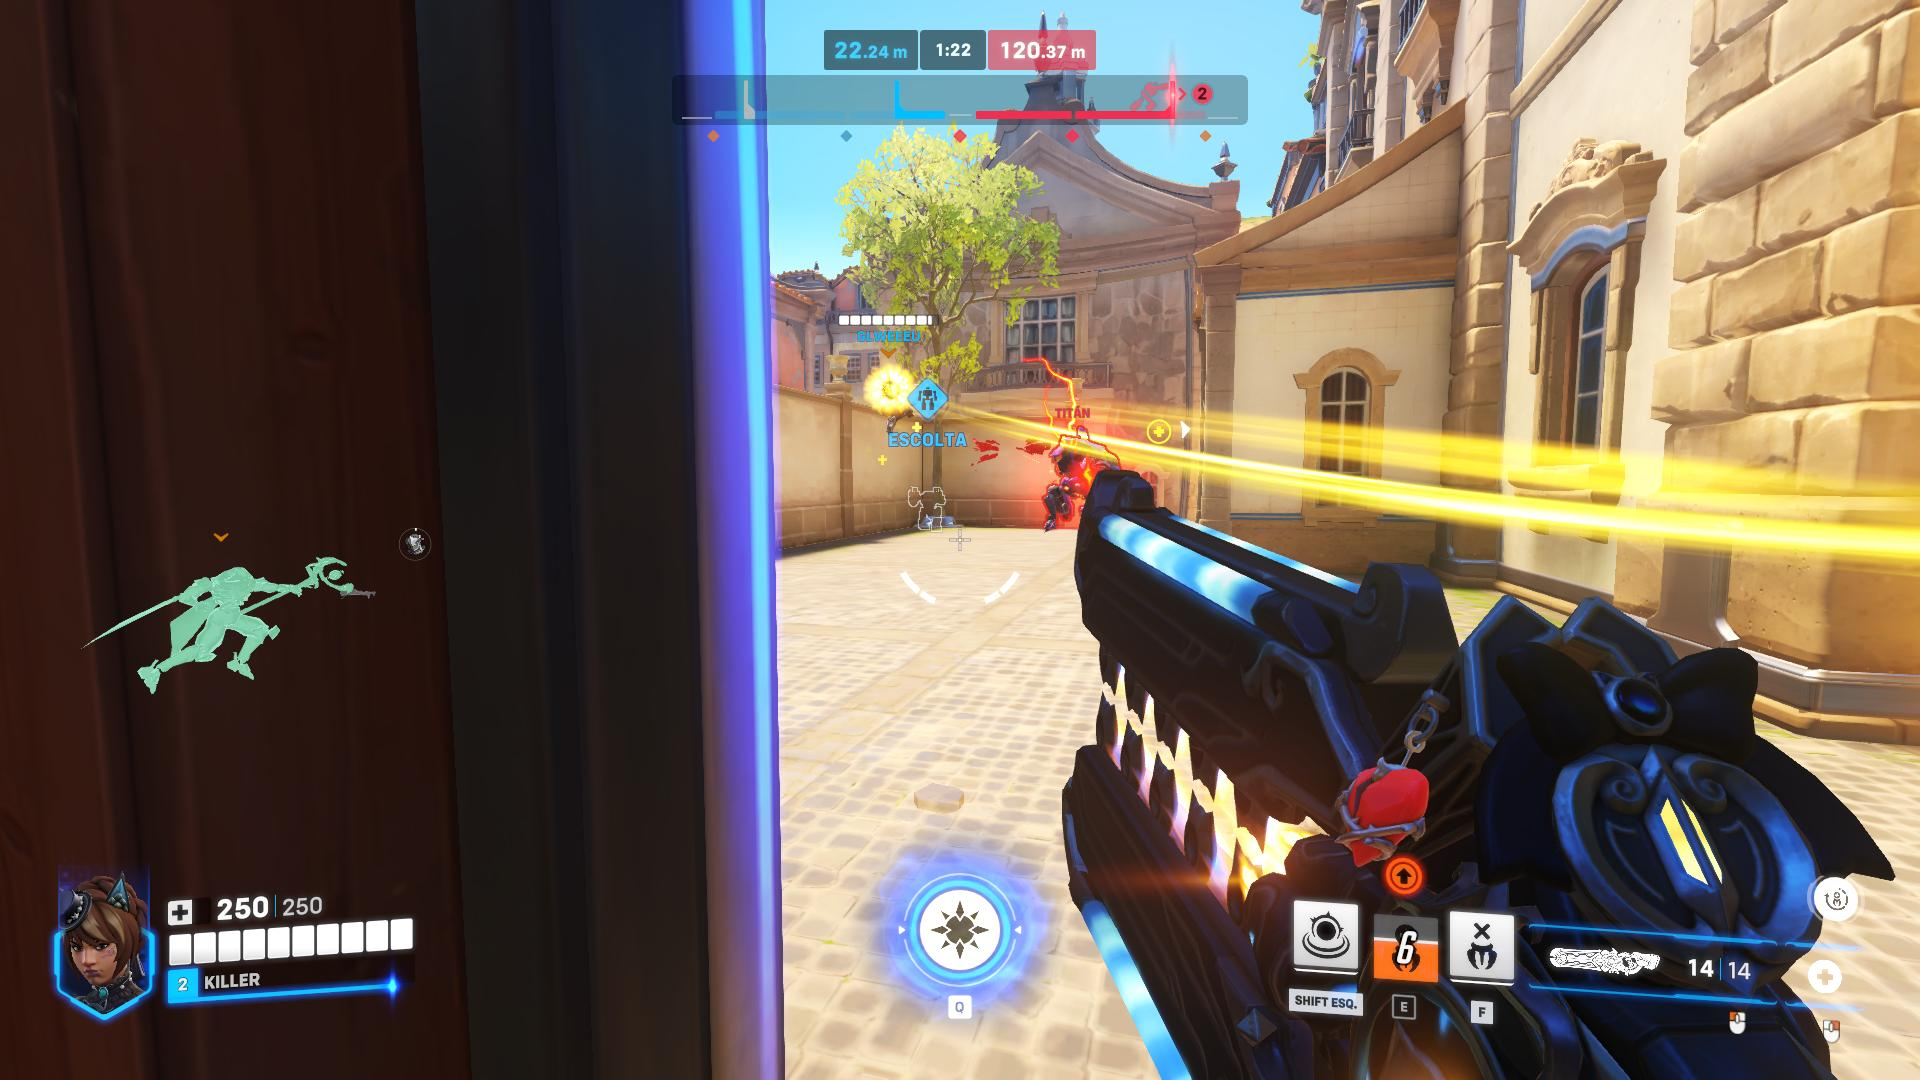enemy: (1042, 425, 1092, 526)
